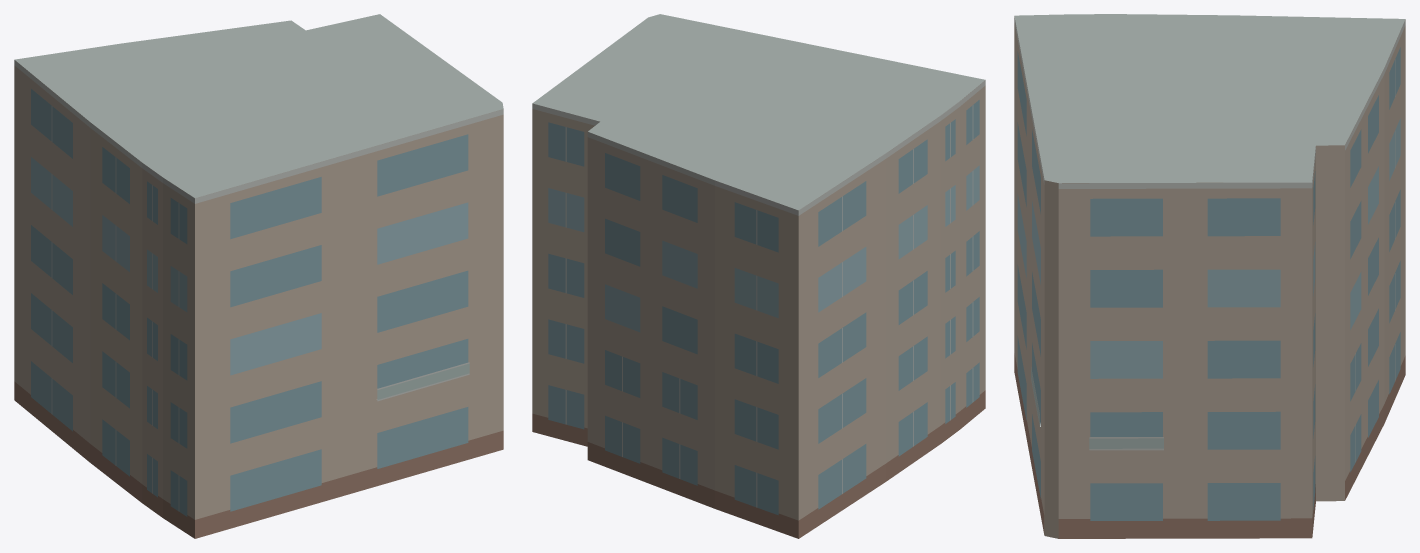
Rendered from survey-upis-32748264.glb.
The picture shows the model from 3 angles, left to right: view 1: azimuth 30°, elevation 25°; view 2: azimuth 150°, elevation 25°; view 3: azimuth 270°, elevation 25°; orthographic projection. The views are drawn at different scales.
Visible parts, largest first — view 1: survey-upis-32748264.tmp; view 2: survey-upis-32748264.tmp; view 3: survey-upis-32748264.tmp.
Boxes of the visible parts, left/top/right/bottom form: survey-upis-32748264.tmp: left=14, top=14, right=503, bottom=538; survey-upis-32748264.tmp: left=532, top=14, right=985, bottom=538; survey-upis-32748264.tmp: left=1014, top=14, right=1405, bottom=538.
Size of the model in its own units: 15.02 by 14.7 by 14.66.
